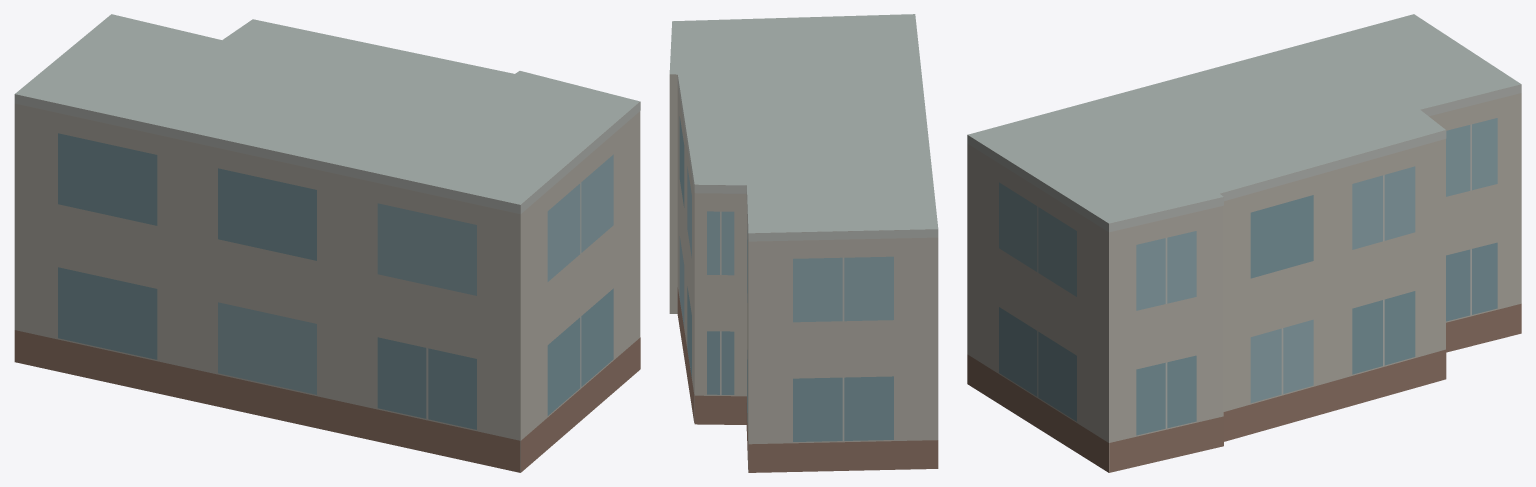
File: survey-upis-32954733.glb
3 views of the same model, side by side, from view 1: azimuth 30°, elevation 25°; view 2: azimuth 150°, elevation 25°; view 3: azimuth 270°, elevation 25° (orthographic). The views are drawn at different scales.
Parts seen in each view (by area): view 1: survey-upis-32954733.tmp; view 2: survey-upis-32954733.tmp; view 3: survey-upis-32954733.tmp.
Boxes of the visible parts, left/top/right/bottom form: survey-upis-32954733.tmp: left=14, top=14, right=640, bottom=472; survey-upis-32954733.tmp: left=669, top=14, right=938, bottom=472; survey-upis-32954733.tmp: left=967, top=14, right=1521, bottom=472.
Size of the model in its own units: 12.54 by 6.95 by 14.01.
